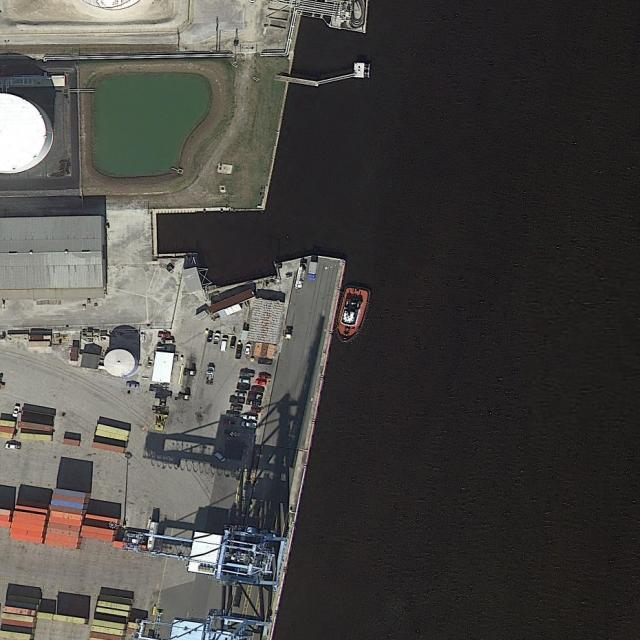Hovercraft: (332, 283, 372, 345)
